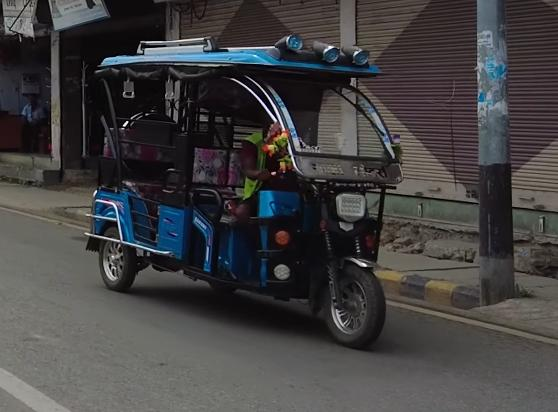e-rickshaw: (92, 28, 398, 355)
